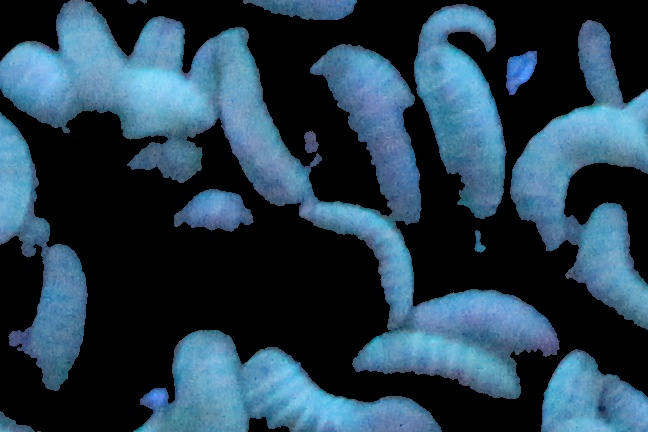larvae: (308, 41, 426, 225), (206, 43, 310, 221), (512, 101, 647, 231), (235, 350, 448, 432), (422, 26, 492, 259), (354, 328, 524, 403), (306, 200, 406, 314), (408, 288, 556, 357), (570, 195, 648, 319), (31, 248, 91, 388), (64, 139, 206, 196), (60, 3, 129, 118), (156, 182, 279, 242), (171, 330, 242, 432), (1, 37, 78, 130), (122, 76, 221, 139), (567, 18, 631, 114), (1, 103, 41, 251), (546, 338, 598, 432), (417, 1, 504, 56), (132, 8, 190, 81), (226, 1, 372, 24), (600, 373, 648, 432)
